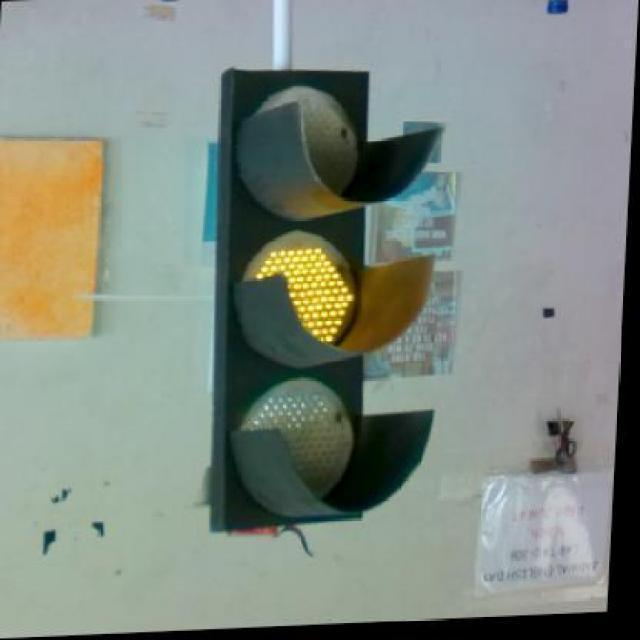yellow_light: (211, 70, 368, 555)
